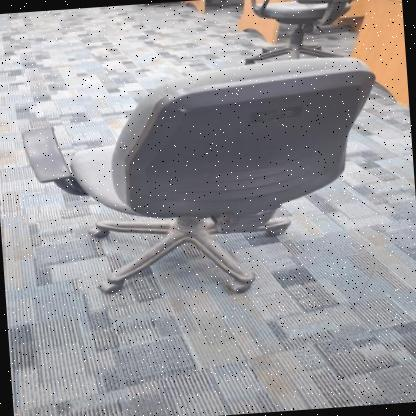chair: (14, 45, 392, 313)
